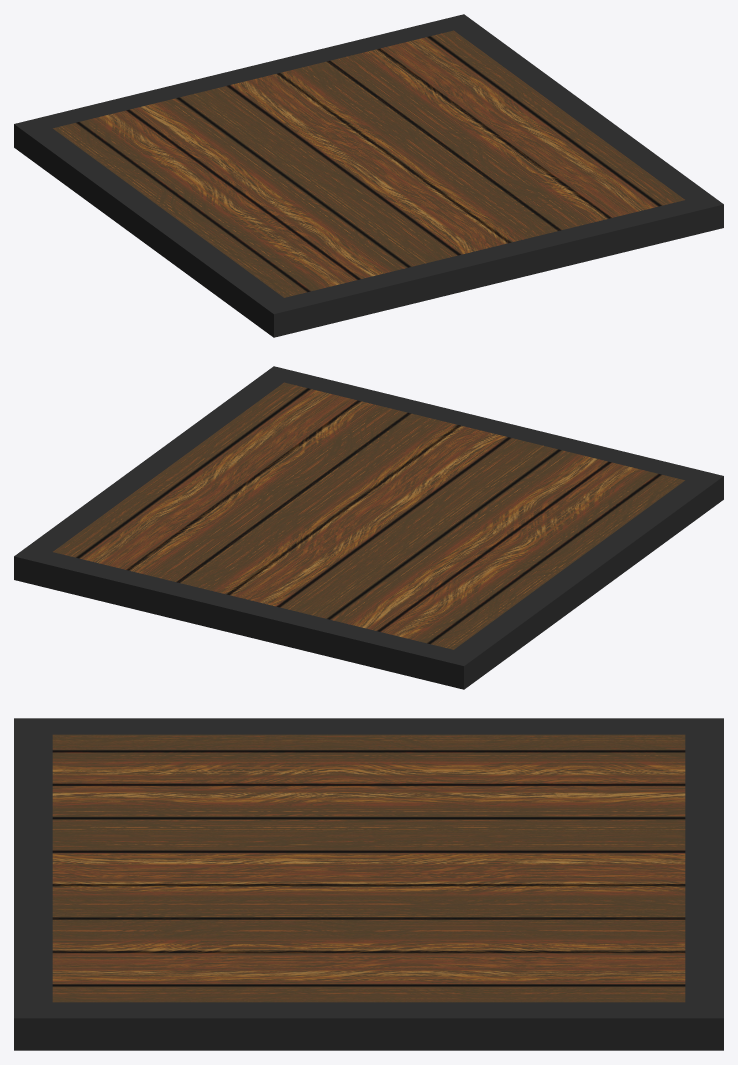
File: Floor-03.fbx
3 renders of one model, top to bottom at view 1: azimuth 30°, elevation 25°; view 2: azimuth 150°, elevation 25°; view 3: azimuth 270°, elevation 25°, orthographic. The views are drawn at different scales.
Parts seen in each view (by area): view 1: Floor 03; view 2: Floor 03; view 3: Floor 03.
Boxes of the visible parts, left/top/right/bottom form: Floor 03: left=14, top=14, right=723, bottom=337; Floor 03: left=14, top=366, right=723, bottom=689; Floor 03: left=14, top=718, right=723, bottom=1050.
Bounding box in the file's own units: 100 × 5 × 100.
2 materials, 1 textured.
